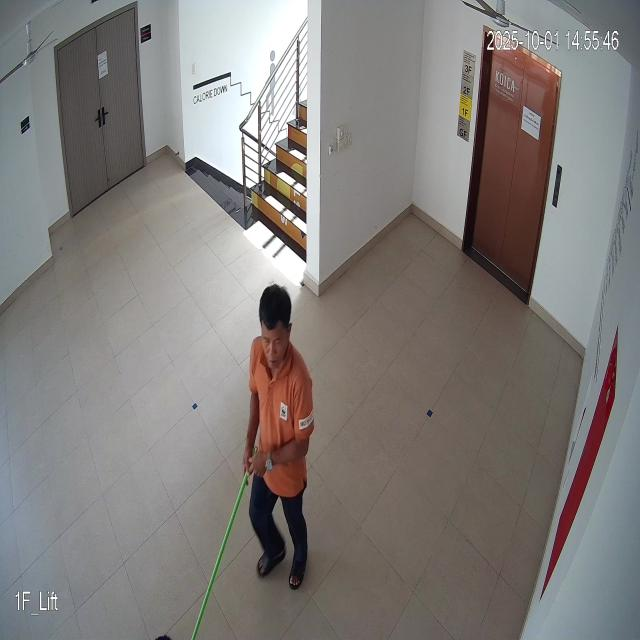face: (253, 280, 298, 384)
